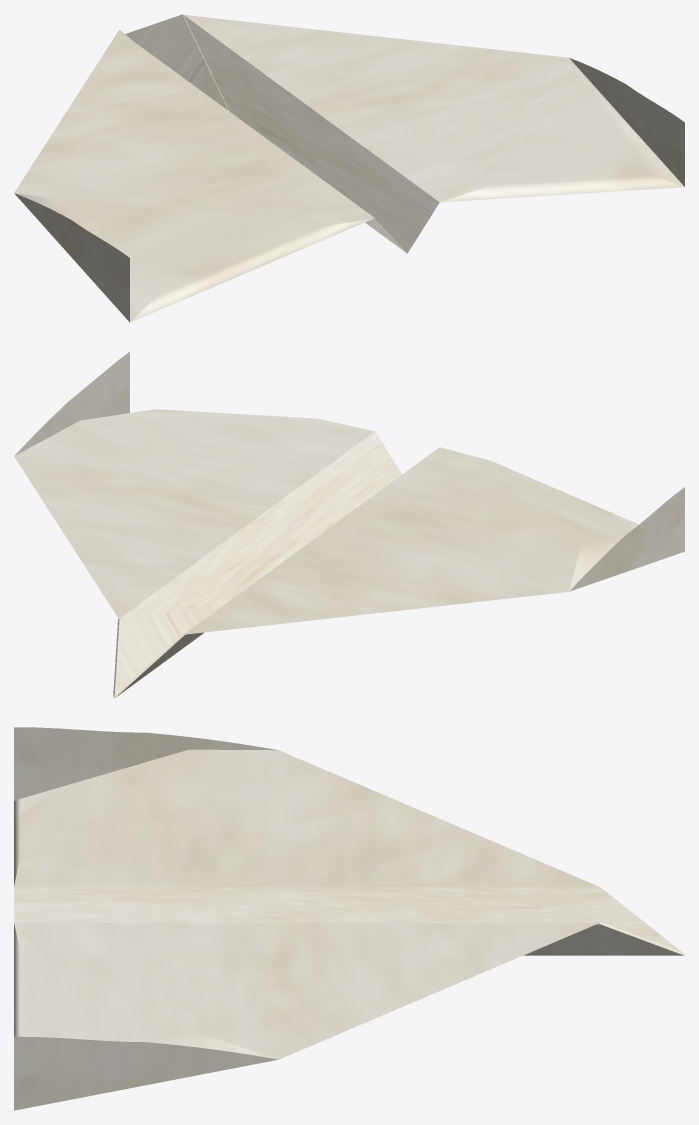
File: craft1.obj
The picture shows the model from 3 angles, top to bottom: view 1: azimuth 30°, elevation 25°; view 2: azimuth 150°, elevation 25°; view 3: azimuth 270°, elevation 25°; orthographic projection. The views are drawn at different scales.
Size of the model in its own units: 8.72 by 0.9467 by 7.78.
1 material, 1 textured.
